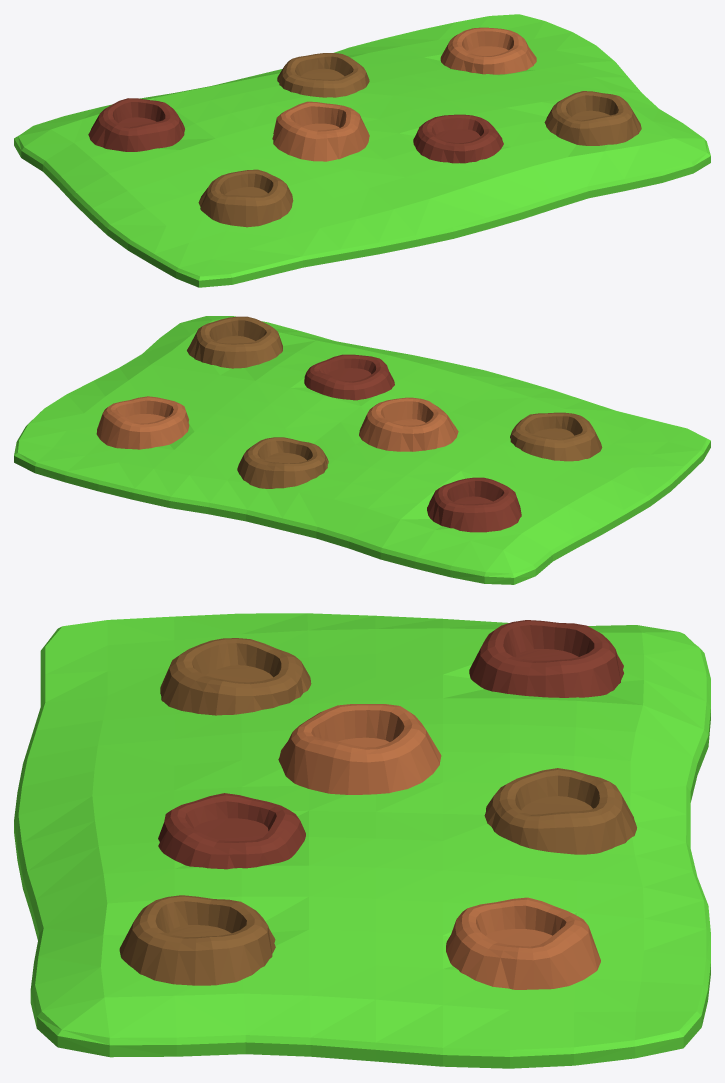
File: Guacamole.fbx
3 renders of one model, top to bottom at view 1: azimuth 30°, elevation 25°; view 2: azimuth 150°, elevation 25°; view 3: azimuth 270°, elevation 25°, orthographic. The views are drawn at different scales.
Parts seen in each view (by area): view 1: Map, Hole4, Hole5, Hole7, Hole1, Hole3, Hole6, Hole2; view 2: Map, Hole4, Hole1, Hole3, Hole7, Hole2, Hole5, Hole6; view 3: Map, Hole4, Hole3, Hole7, Hole2, Hole1, Hole5, Hole6.
Boxes of the visible parts, left/top/right/bottom form: Map: left=14, top=14, right=710, bottom=287; Hole4: left=272, top=101, right=369, bottom=161; Hole5: left=198, top=169, right=293, bottom=227; Hole7: left=544, top=91, right=641, bottom=145; Hole1: left=88, top=98, right=184, bottom=151; Hole3: left=440, top=27, right=536, bottom=74; Hole6: left=413, top=114, right=503, bottom=163; Hole2: left=277, top=53, right=369, bottom=97; Map: left=14, top=316, right=710, bottom=584; Hole4: left=359, top=397, right=458, bottom=451; Hole1: left=427, top=477, right=521, bottom=532; Hole3: left=96, top=396, right=189, bottom=449; Hole7: left=187, top=316, right=282, bottom=368; Hole2: left=237, top=437, right=328, bottom=488; Hole5: left=510, top=412, right=602, bottom=461; Hole6: left=304, top=354, right=394, bottom=400; Map: left=14, top=613, right=710, bottom=1068; Hole4: left=278, top=704, right=441, bottom=794; Hole3: left=446, top=897, right=600, bottom=989; Hole7: left=119, top=895, right=275, bottom=985; Hole2: left=484, top=768, right=636, bottom=854; Hole1: left=469, top=620, right=623, bottom=697; Hole5: left=160, top=638, right=311, bottom=715; Hole6: left=158, top=793, right=305, bottom=869.
Bounding box in the file's own units: 311 × 28.21 × 208.
